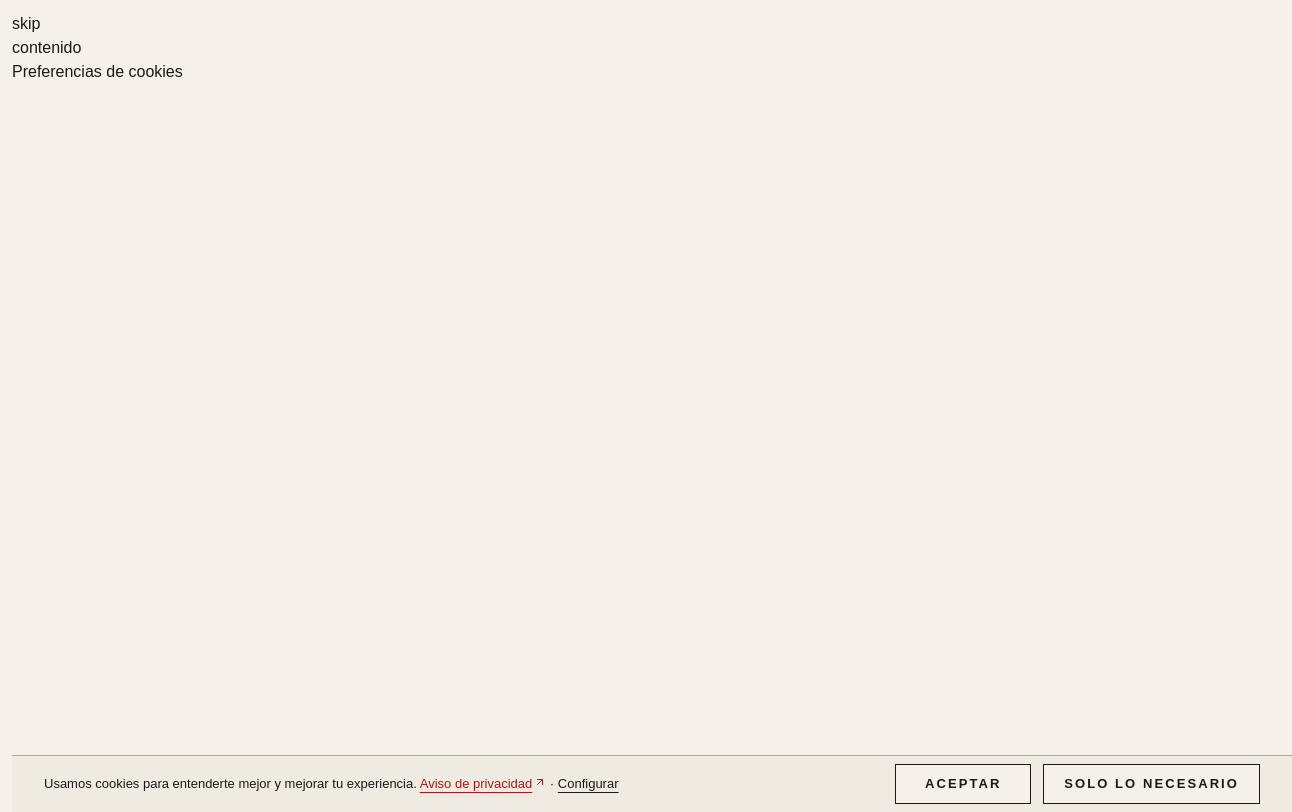
Test: C-F18 · tras responder: foco a #main y anuncio › Aceptar ⇒ th_consent, banner-response, sin banner, foco en #main, «Tu elección se guardó.»
Click the button "Aceptar": (963, 784) [895,764,1031,804]
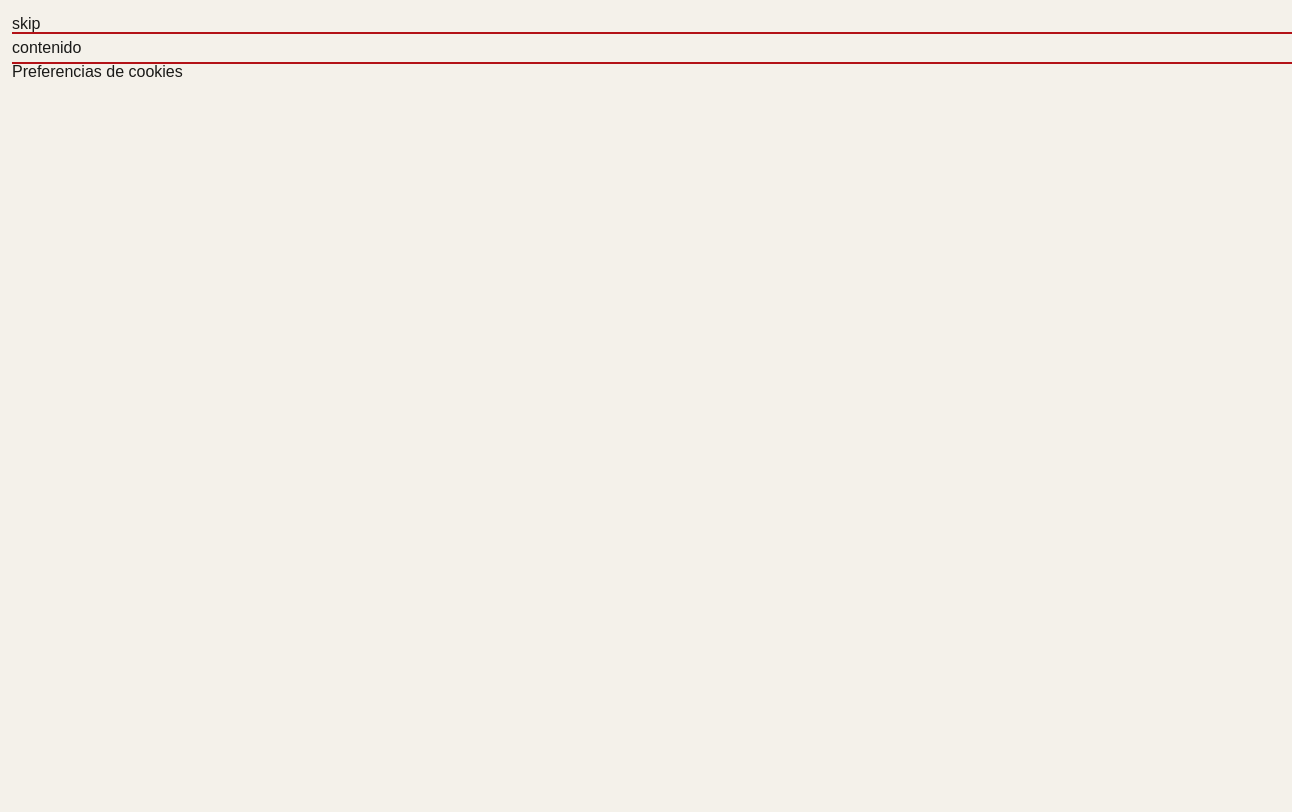
Now the element with test id "consent-banner" is gone
